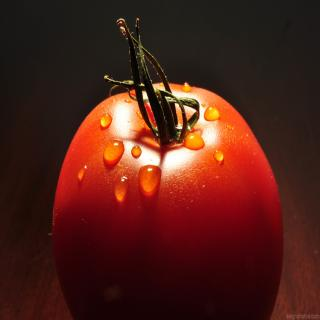tomato: (51, 14, 285, 320)
